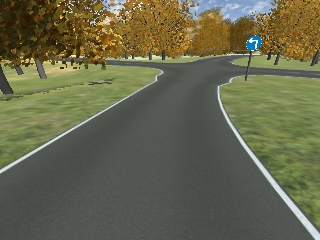left: (245, 35, 262, 52)
